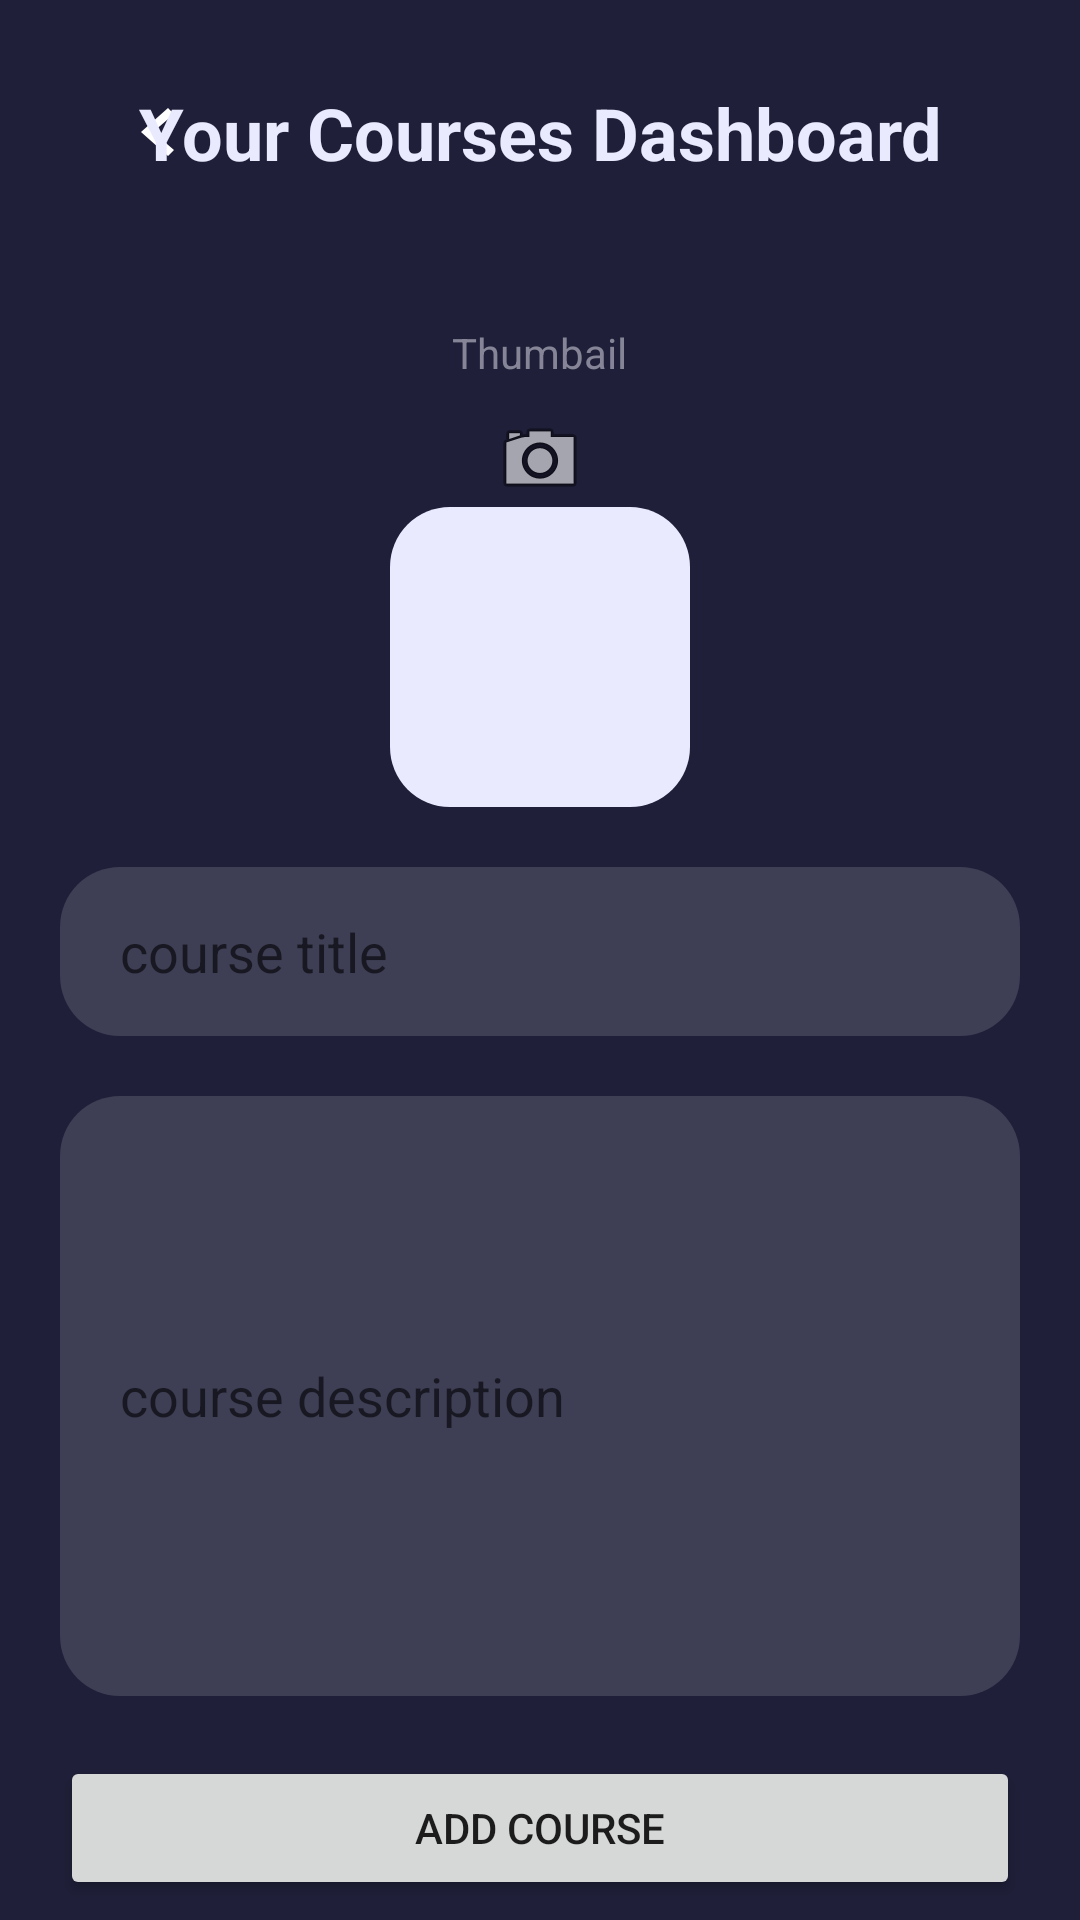

Icons on this 1080 x 1920 Android screen, each with the point to tap as (x=x, y=y):
camera: (x=540, y=457)
